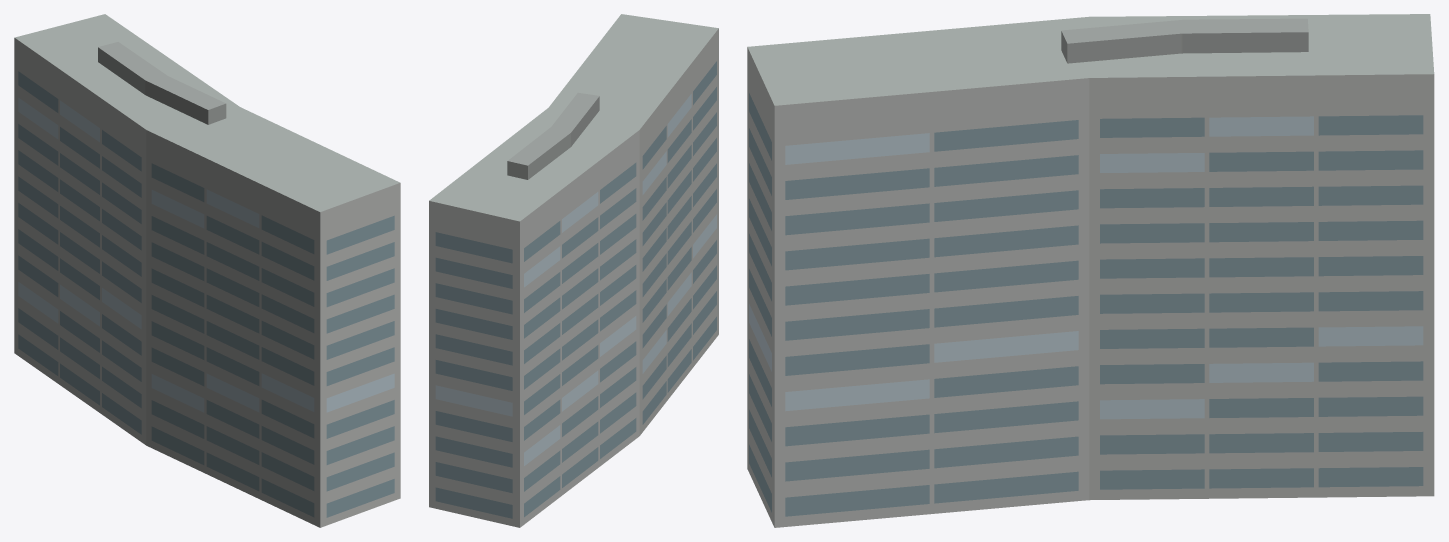
File: fallback-dmc-raemian-e-pyeonhansesang-215.glb
3 renders of one model, left to right at view 1: azimuth 30°, elevation 25°; view 2: azimuth 150°, elevation 25°; view 3: azimuth 270°, elevation 25°, orthographic. The views are drawn at different scales.
Parts seen in each view (by area): view 1: fallback-dmc-raemian-e-pyeonhansesang-215; view 2: fallback-dmc-raemian-e-pyeonhansesang-215; view 3: fallback-dmc-raemian-e-pyeonhansesang-215.
Boxes of the visible parts, x1=… form: fallback-dmc-raemian-e-pyeonhansesang-215: x1=14, y1=14, x2=400, y2=527; fallback-dmc-raemian-e-pyeonhansesang-215: x1=429, y1=14, x2=718, y2=527; fallback-dmc-raemian-e-pyeonhansesang-215: x1=747, y1=14, x2=1434, y2=527.
Size of the model in its own units: 16.52 by 37 by 52.13.
